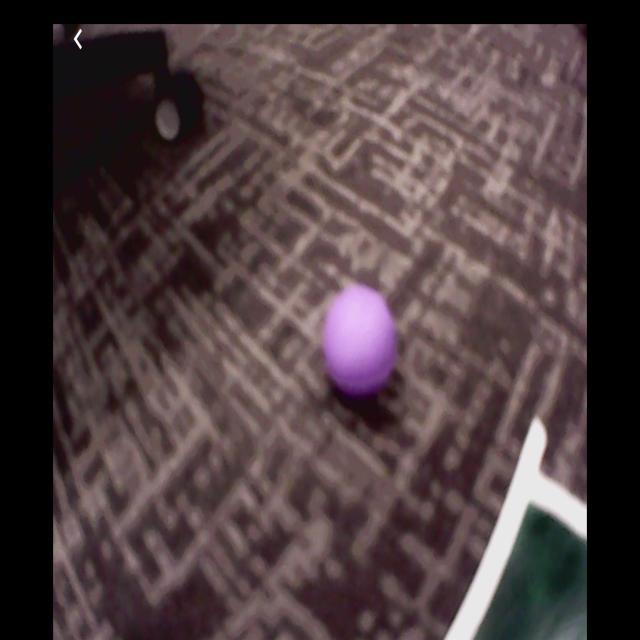ball: (322, 287, 399, 395)
